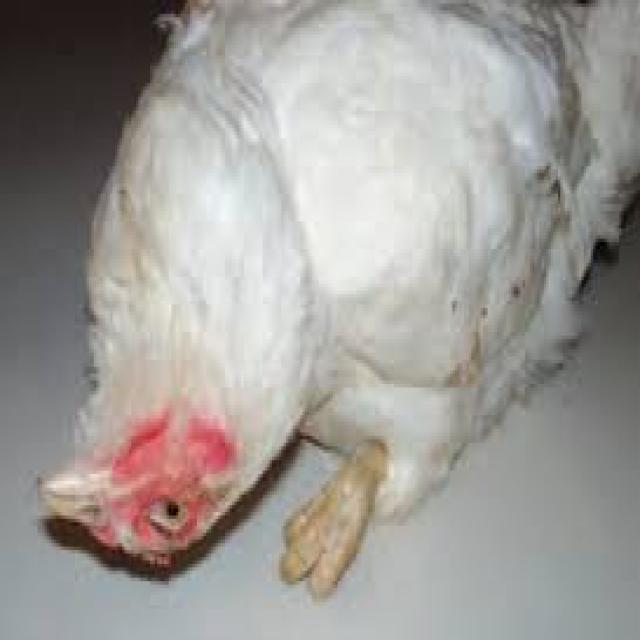newcastle: (36, 0, 639, 607)
